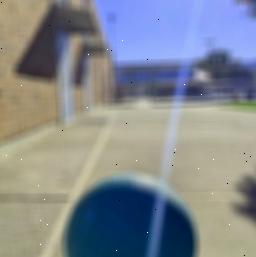algae: (58, 167, 200, 257)
